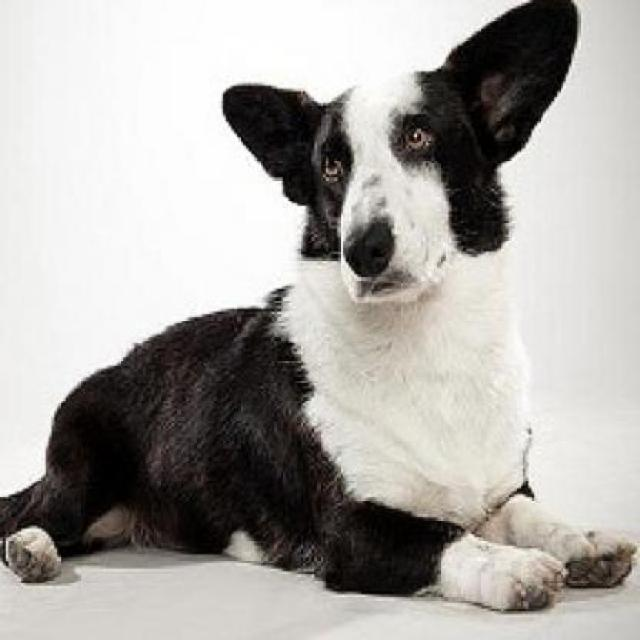Dog: (1, 0, 638, 615)
